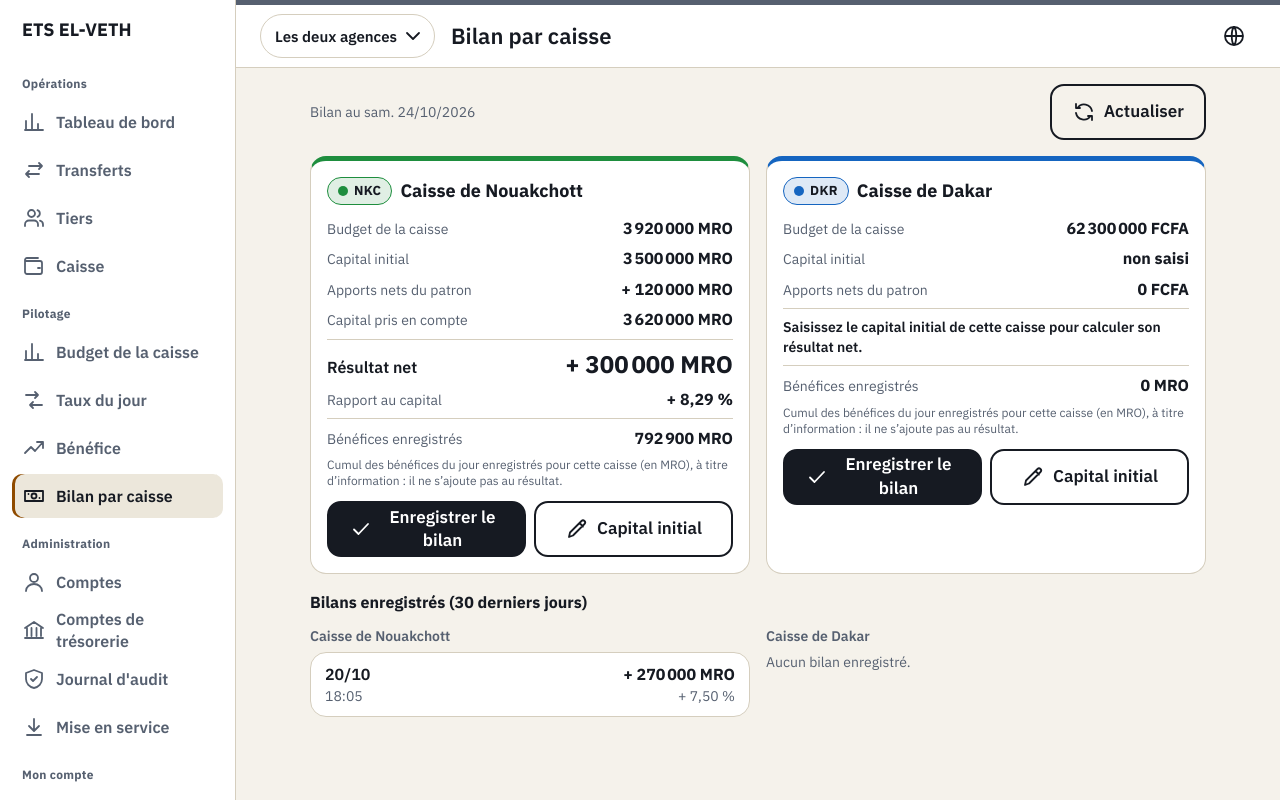
Bilan par caisse — Superviseur › enregistre le bilan d’une caisse après confirmation
The image size is (1280, 800).
Click the button "Enregistrer le bilan" below "792 900 MRO": coordinates (426, 529) [327,501,526,557]
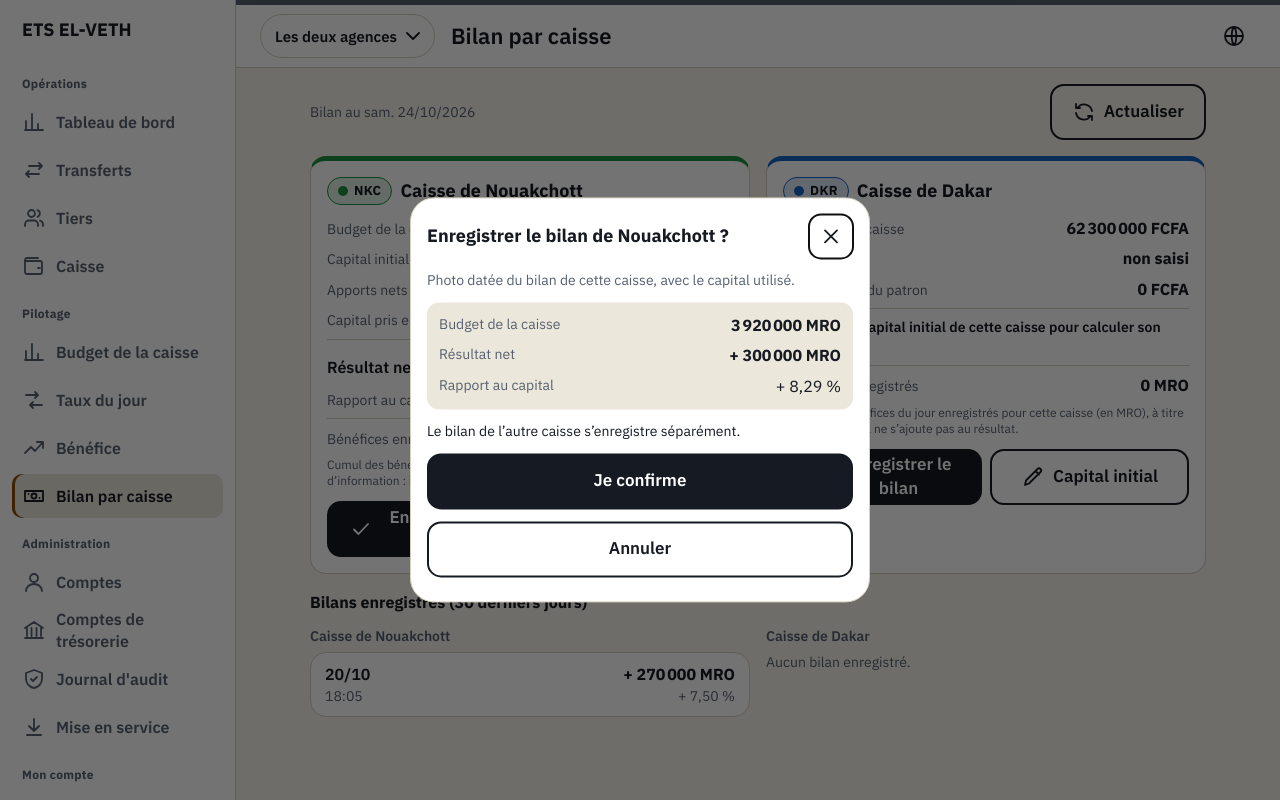
Now the text "Le bilan de l’autre caisse s’enregistre séparément." is shown, box [427,423,740,441]
Click the button "Je confirme": coordinates (640, 482) [427,454,853,510]
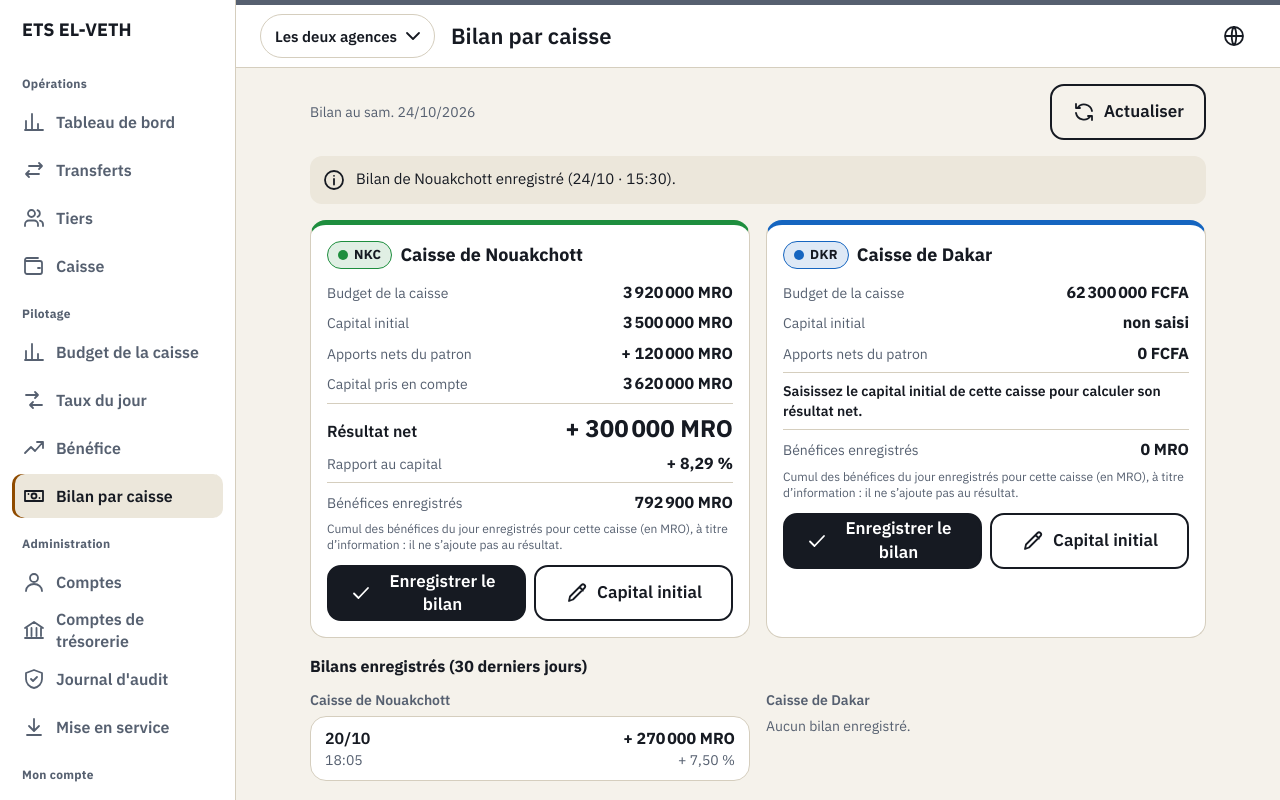
Now the dialog is gone
Now the text "Bilan de Nouakchott enregistré (24/10 · 15:30)." is shown, box [356,168,676,192]
